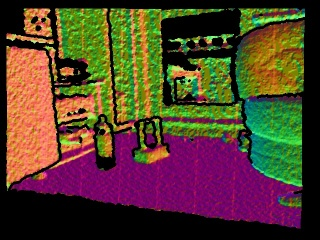station: (133, 117, 172, 163)
